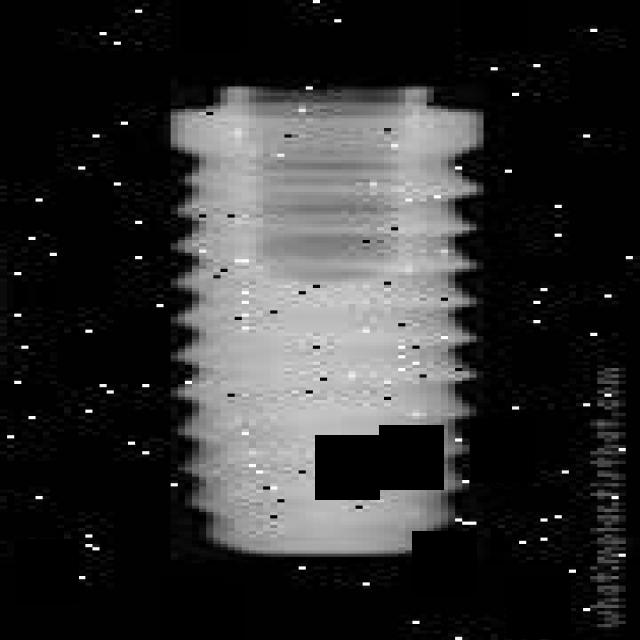Osstem Implant: (171, 86, 484, 560)
